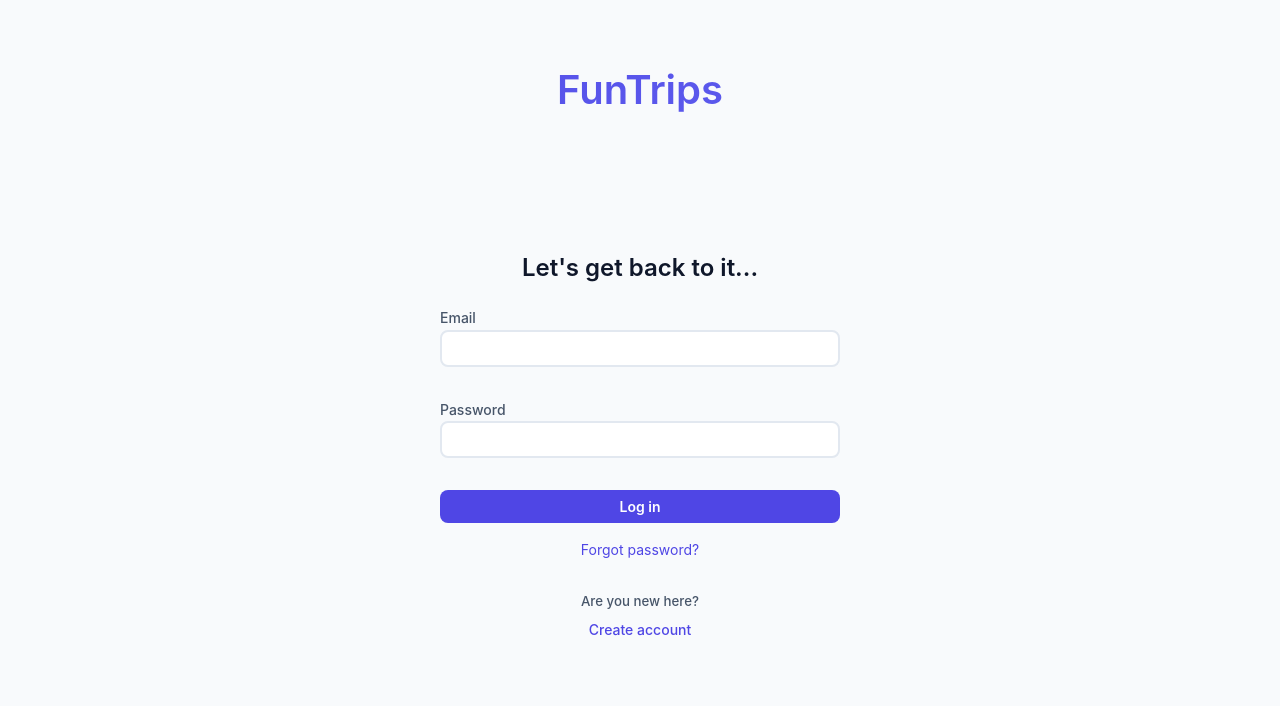
Test: app › forgot password flow
Step 1. Click the button "Forgot password?" → click(640, 550), box [440,539,840,561]
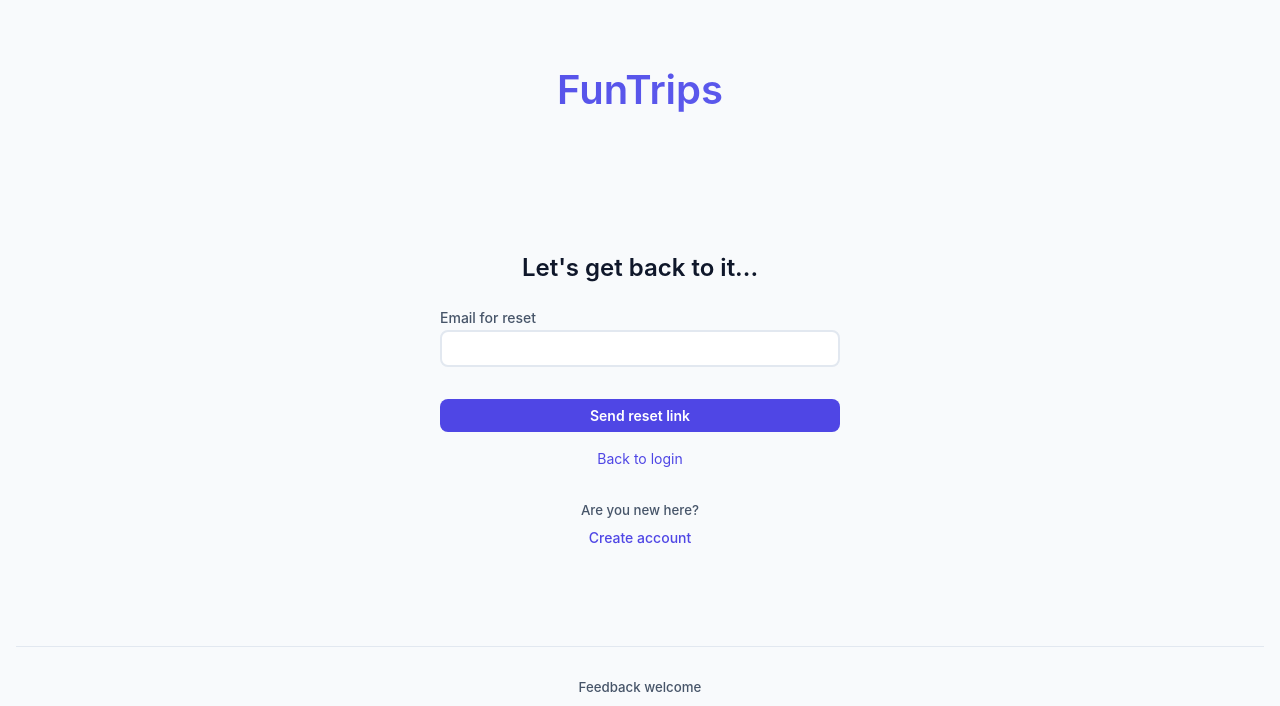
Now the text "Email for reset" is shown, box [440,307,840,367]
Step 2. Type "test@test.com" into the field labelled "Email for reset" → (640, 349), box [440,330,840,367]
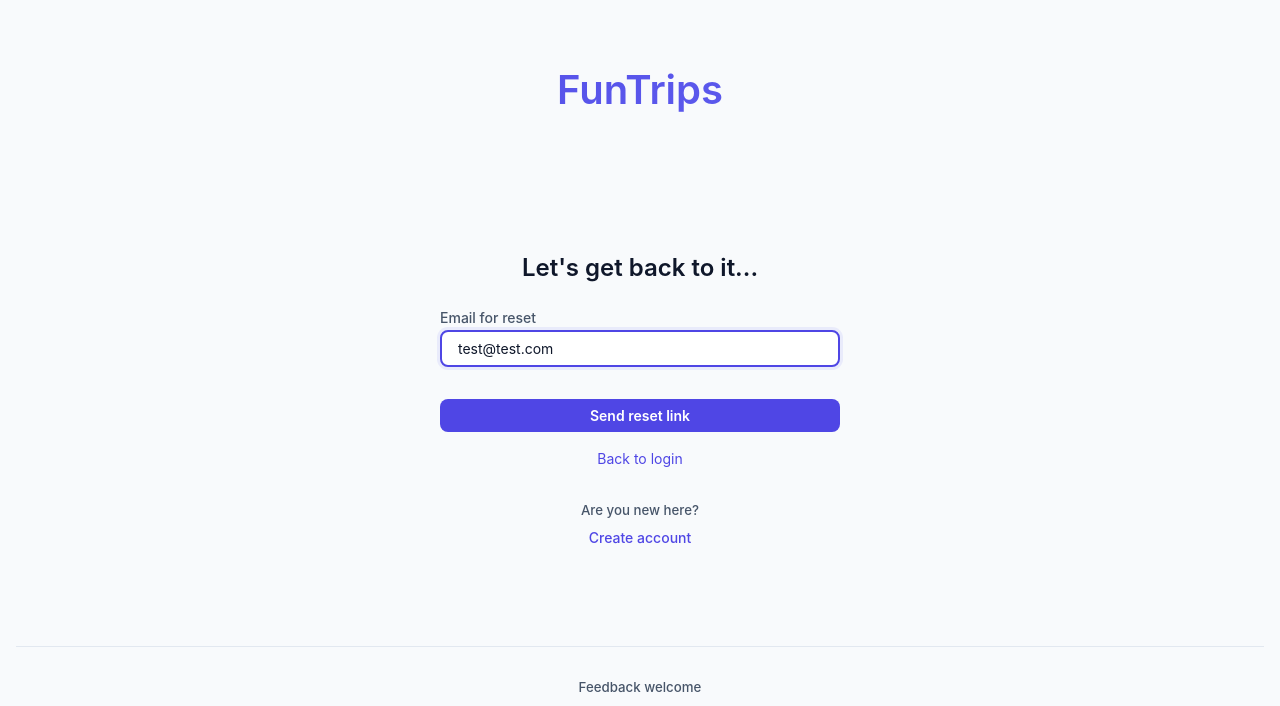
Step 3. Click the button "Send reset link" → click(640, 416), box [440,399,840,432]
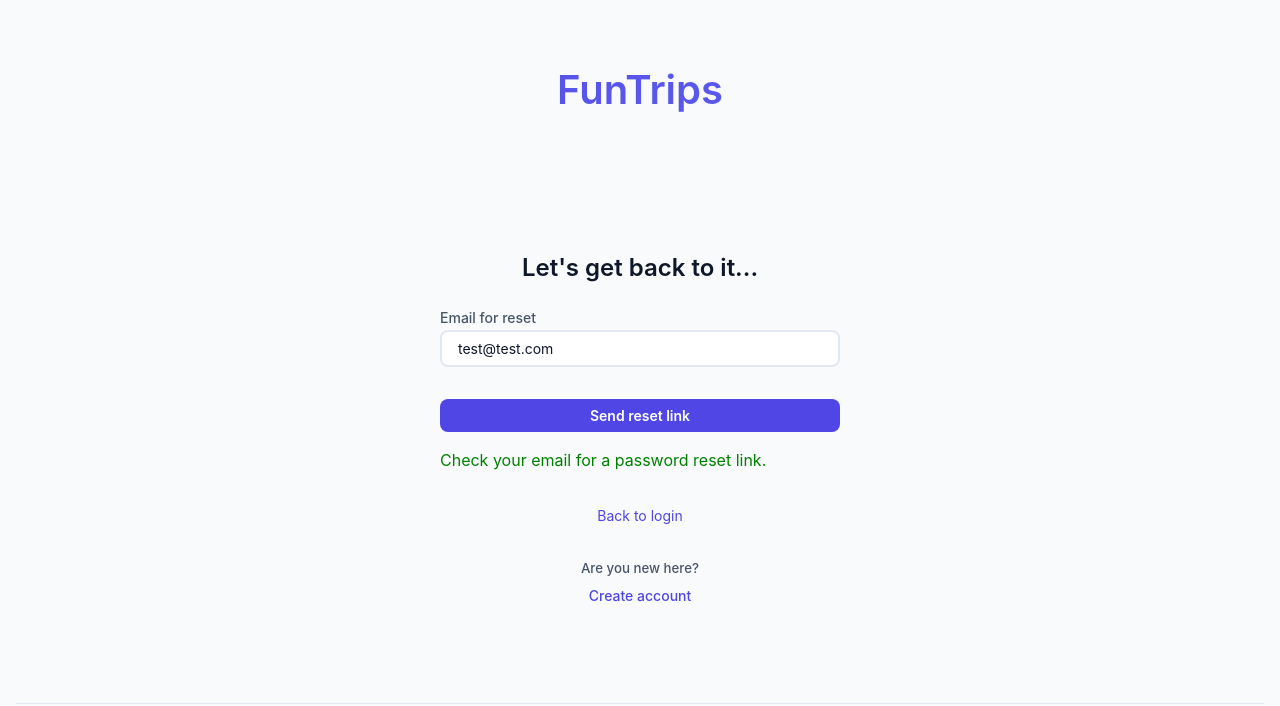
Now the text "Check your email for a password reset link." is shown, box [440,450,766,470]
